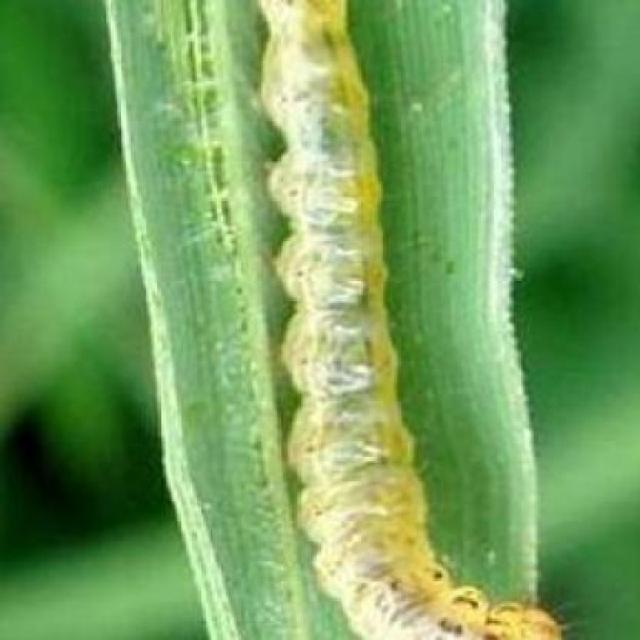leaf-folder: (217, 36, 634, 639)
